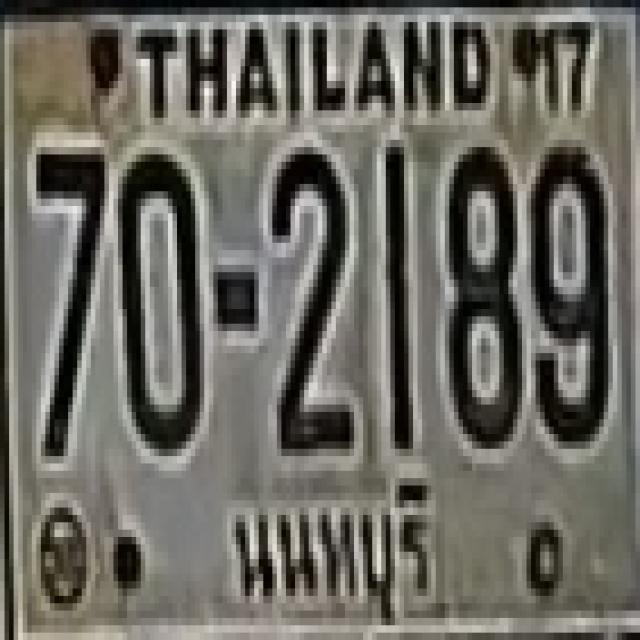0: (118, 151, 200, 445)
1: (382, 140, 408, 449)
2: (272, 144, 350, 445)
7: (34, 147, 102, 449)
8: (445, 140, 517, 441)
9: (526, 140, 604, 441)
NBI: (220, 477, 444, 623)
